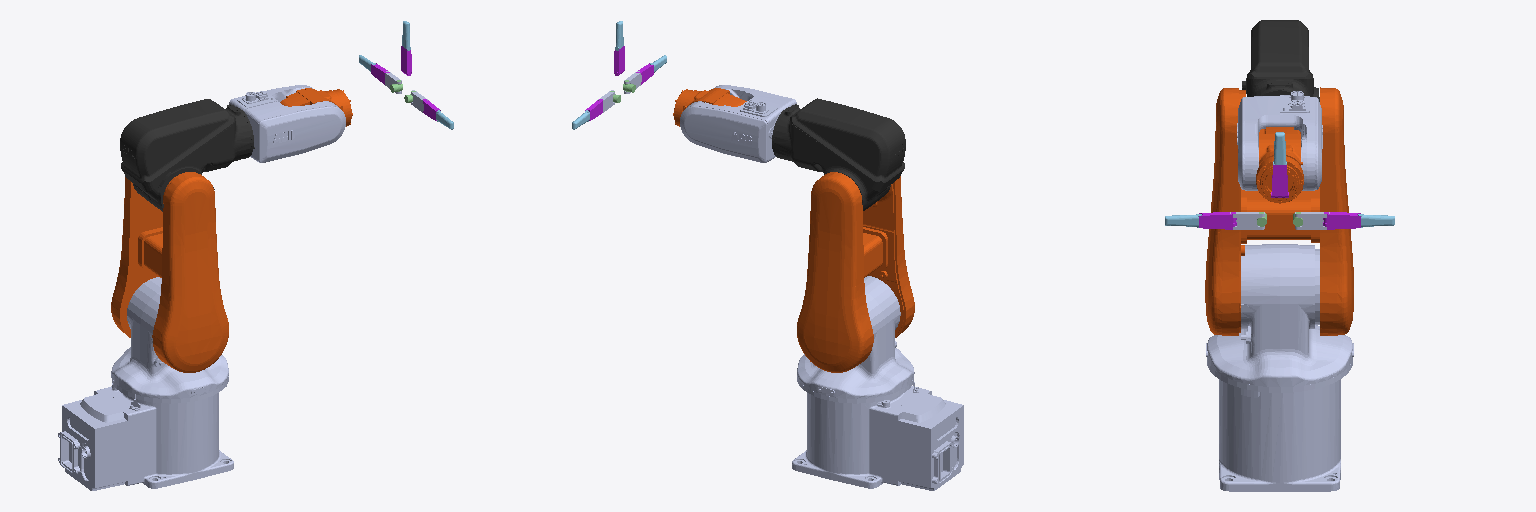
--- Facts derived from the render (not from the file) ---
Views: 3 orthographic renders of the robot side by side, from view 1: azimuth 30°, elevation 25°; view 2: azimuth 150°, elevation 25°; view 3: azimuth 270°, elevation 25°.
Model totalassembly with 17 links and 16 joints (14 revolute, 2 fixed), rooted at base_link, posed every joint at zero.
Visible links, largest first — view 1: arm3, base_link, arm4, arm2, arm5, arm6; view 2: arm3, base_link, arm4, arm2, arm5, arm6; view 3: arm3, arm2, base_link, arm5, arm4, arm6, lfingmid, rfingmid.
Link boxes in pixels (x1=…): arm3: x1=111, y1=172, x2=228, y2=372; base_link: x1=58, y1=383, x2=233, y2=490; arm4: x1=120, y1=99, x2=254, y2=211; arm2: x1=111, y1=277, x2=228, y2=403; arm5: x1=229, y1=85, x2=345, y2=162; arm6: x1=280, y1=88, x2=352, y2=126; arm3: x1=797, y1=172, x2=914, y2=372; base_link: x1=792, y1=382, x2=963, y2=490; arm4: x1=772, y1=98, x2=905, y2=210; arm2: x1=797, y1=276, x2=914, y2=403; arm5: x1=680, y1=85, x2=796, y2=162; arm6: x1=673, y1=88, x2=746, y2=126; arm3: x1=1205, y1=87, x2=1353, y2=335; arm2: x1=1206, y1=244, x2=1353, y2=397; base_link: x1=1219, y1=379, x2=1340, y2=491; arm5: x1=1237, y1=91, x2=1322, y2=190; arm4: x1=1242, y1=20, x2=1319, y2=101; arm6: x1=1256, y1=127, x2=1303, y2=203; lfingmid: x1=1199, y1=212, x2=1236, y2=229; rfingmid: x1=1323, y1=212, x2=1360, y2=229.
Bounding box of the posed robot: 0.7076 × 0.3389 × 0.7728 m (x, y, z).
Meshes: 17 distinct files referenced, 16 mesh visuals loaded (16 binary STL); not drawn: 1 (reference not matched to a file when rendering).

URDF robot description (totalassembly):
<?xml version="1.0" encoding="utf-8" ?>
<!-- This URDF was automatically created by SolidWorks to URDF Exporter! Originally created by Stephen Brawner ([email redacted]) 
     Commit Version: 1.5.1-0-g916b5db  Build Version: 1.5.7152.31018
     For more information, please see http://wiki.ros.org/sw_urdf_exporter -->
<robot name="totalassembly">
    <link name="base_link">
        
	<inertial>
            <mass value="6.215" />
            <inertia ixx="0.024621" ixy="2.5781E-05" ixz="-0.00023172" iyy="0.027034" iyz="5.6467E-06" izz="0.025199" />
        </inertial>

        <visual>
            <origin xyz="0 0 0" rpy="0 0 0" />
            <geometry>
                <mesh filename="package://totalassembly/meshes/base_link.STL" />
            </geometry>
            <material name="">
                <color rgba="0.79216 0.81961 0.93333 1" />
            </material>
        </visual>
        <collision>
            <origin xyz="0 0 0" rpy="0 0 0" />
            <geometry>
                <mesh filename="package://totalassembly/meshes/base_link.STL" />
            </geometry>
        </collision>
    </link>
    <link name="arm2">
        
	<inertial>
            <mass value="0.1" />
            <inertia ixx="0.03" iyy="0.03" izz="0.03" ixy="0.0" ixz="0.0" iyz="0.0" />
        </inertial>

        <visual>
            <origin xyz="0 0 0" rpy="0 0 0" />
            <geometry>
                <mesh filename="package://totalassembly/meshes/arm2.STL" />
            </geometry>
            <material name="">
                <color rgba="0.79216 0.81961 0.93333 1" />
            </material>
        </visual>
        <collision>
            <origin xyz="0 0 0" rpy="0 0 0" />
            <geometry>
                <mesh filename="package://totalassembly/meshes/arm2.STL" />
            </geometry>
        </collision>
    </link>
    <joint name="axis1" type="revolute">
        <origin xyz="0 0 0.179" rpy="0 0 0" />
        <parent link="base_link" />
        <child link="arm2" />
        <axis xyz="0 0 -1" />
        <limit lower="-2.88" upper="2.88" effort="100" velocity="1" />
    </joint>
    <link name="arm3">
        
	<inertial>
            <mass value="0.1" />
            <inertia ixx="0.03" iyy="0.03" izz="0.03" ixy="0.0" ixz="0.0" iyz="0.0" />
        </inertial>

        <visual>
            <origin xyz="0 0 0" rpy="0 0 0" />
            <geometry>
                <mesh filename="package://totalassembly/meshes/arm3.STL" />
            </geometry>
            <material name="">
                <color rgba="0.8902 0.41176 0.13333 1" />
            </material>
        </visual>
        <collision>
            <origin xyz="0 0 0" rpy="0 0 0" />
            <geometry>
                <mesh filename="package://totalassembly/meshes/arm3.STL" />
            </geometry>
        </collision>
    </link>
    <joint name="axis2" type="revolute">
        <origin xyz="0 0.0735 0.111" rpy="0 0 0" />
        <parent link="arm2" />
        <child link="arm3" />
        <axis xyz="0 -1 0" />
        <limit lower="-1.92" upper="1.92" effort="100" velocity="1" />
    </joint>
    <link name="arm4">
        
	<inertial>
            <mass value="0.1" />
            <inertia ixx="0.03" iyy="0.03" izz="0.03" ixy="0.0" ixz="0.0" iyz="0.0" />
        </inertial>

        <visual>
            <origin xyz="0 0 0" rpy="0 0 0" />
            <geometry>
                <mesh filename="package://totalassembly/meshes/arm4.STL" />
            </geometry>
            <material name="">
                <color rgba="0.250980392156863 0.250980392156863 0.250980392156863 1" />
            </material>
        </visual>
        <collision>
            <origin xyz="0 0 0" rpy="0 0 0" />
            <geometry>
                <mesh filename="package://totalassembly/meshes/arm4.STL" />
            </geometry>
        </collision>
    </link>
    <joint name="axis3" type="revolute">
        <origin xyz="0 -0.073500000000008 0.27" rpy="0 0 0" />
        <parent link="arm3" />
        <child link="arm4" />
        <axis xyz="0 -1 0" />
        <limit lower="-1.92" upper="1.22" effort="100" velocity="1" />
    </joint>
    <link name="arm5">
        
        <inertial>
            <mass value="0.1" />
            <inertia ixx="0.03" iyy="0.03" izz="0.03" ixy="0.0" ixz="0.0" iyz="0.0" />
        </inertial>

        <visual>
            <origin xyz="0 0 0" rpy="0 0 0" />
            <geometry>
                <mesh filename="package://totalassembly/meshes/arm5.STL" />
            </geometry>
            <material name="">
                <color rgba="0.792156862745098 0.819607843137255 0.933333333333333 1" />
            </material>
        </visual>
        <collision>
            <origin xyz="0 0 0" rpy="0 0 0" />
            <geometry>
                <mesh filename="package://totalassembly/meshes/arm5.STL" />
            </geometry>
        </collision>
    </link>
    <joint name="axis4" type="revolute">
        <origin xyz="0.302000000000004 0 0.0699999999999995" rpy="0 0 0" />
        <parent link="arm4" />
        <child link="arm5" />
        <axis xyz="-1 0 0" />
        <limit lower="-2.79" upper="2.79" effort="100" velocity="1" />
    </joint>
    <link name="arm6">
        
         <inertial>
            <mass value="0.1" />
            <inertia ixx="0.03" iyy="0.03" izz="0.03" ixy="0.0" ixz="0.0" iyz="0.0" />
        </inertial>

        <visual>
            <origin xyz="0 0 0" rpy="0 0 0" />
            <geometry>
                <mesh filename="package://totalassembly/meshes/arm6.STL" />
            </geometry>
            <material name="">
                <color rgba="0.8902 0.41176 0.13333 1" />
            </material>
        </visual>
        <collision>
            <origin xyz="0 0 0" rpy="0 0 0" />
            <geometry>
                <mesh filename="package://totalassembly/meshes/arm6.STL" />
            </geometry>
        </collision>
    </link>
    <joint name="axis5" type="revolute">
        <origin xyz="0 0 0" rpy="0 0 0" />
        <parent link="arm5" />
        <child link="arm6" />
        <axis xyz="0 1 0" />
        <limit lower="-2.09" upper="2.09" effort="100" velocity="1" />
    </joint>
    <link name="gripperbase">
        
<inertial>
            <mass value="0.1" />
            <inertia ixx="0.03" iyy="0.03" izz="0.03" ixy="0.0" ixz="0.0" iyz="0.0" />
        </inertial>

        <visual>
            <origin xyz="0 0 0" rpy="0 0 0" />
            <geometry>
                <mesh filename="package://totalassembly/meshes/gripperbase.STL" />
            </geometry>
            <material name="">
                <color rgba="0.78039 0.5 0.74118 1" />
            </material>
        </visual>
        <collision>
            <origin xyz="0 0 0" rpy="0 0 0" />
            <geometry>
                <mesh filename="package://totalassembly/meshes/gripperbase.STL" />
            </geometry>
        </collision>
    </link>
    <joint name="wrist" type="revolute">
        <origin xyz="0.071999999999996 0 0" rpy="0 0 0" />
        <parent link="arm6" />
        <child link="gripperbase" />
        <axis xyz="-1 0 0" />
        <limit lower="-6.98" upper="6.98" effort="100" velocity="1" />
    </joint>
    <link name="mfingmid">
        
<inertial>
            <mass value="0.1" />
            <inertia ixx="0.03" iyy="0.03" izz="0.03" ixy="0.0" ixz="0.0" iyz="0.0" />
        </inertial>

        <visual>
            <origin xyz="0 0 0" rpy="0 0 0" />
            <geometry>
                <mesh filename="package://totalassembly/meshes/mfingmid.STL" />
            </geometry>
            <material name="">
                <color rgba="0.79216 0.2 0.93333 1" />
            </material>
        </visual>
        <collision>
            <origin xyz="0 0 0" rpy="0 0 0" />
            <geometry>
                <mesh filename="package://totalassembly/meshes/mfingmid.STL" />
            </geometry>
        </collision>
    </link>
    <joint name="mfingjoint2" type="revolute">
        <origin xyz="0.125 0 0.0419999999999996" rpy="0 -0.00154592168307366 0" />
        <parent link="gripperbase" />
        <child link="mfingmid" />
        <axis xyz="0 -1 0" />
        <limit lower="-2.4" upper="0" effort="100" velocity="1" />
    </joint>
    <link name="mfingtop">
        
        <inertial>
            <mass value="0.1" />
            <inertia ixx="0.03" iyy="0.03" izz="0.03" ixy="0.0" ixz="0.0" iyz="0.0" />
        </inertial>

        <visual>
            <origin xyz="0 0 0" rpy="0 0 0" />
            <geometry>
                <mesh filename="package://totalassembly/meshes/mfingtop.STL" />
            </geometry>
            <material name="">
                <color rgba="0.6 0.81961 0.93333 1" />
            </material>
        </visual>
        <collision>
            <origin xyz="0 0 0" rpy="0 0 0" />
            <geometry>
                <mesh filename="package://totalassembly/meshes/mfingtop.STL" />
            </geometry>
        </collision>
    </link>
    <joint name="mfingjoint3" type="revolute">
        <origin xyz="0 -0.000249999999999256 0.0500000000000007" rpy="0 0.00154592168307366 0" />
        <parent link="mfingmid" />
        <child link="mfingtop" />
        <axis xyz="0 -1 0" />
        <limit lower="-0.87" upper="0" effort="100" velocity="1" />
    </joint>
    <link name="leftmot">
        
        <inertial>
            <mass value="0.1" />
            <inertia ixx="0.03" iyy="0.03" izz="0.03" ixy="0.0" ixz="0.0" iyz="0.0" />
        </inertial>

        <visual>
            <origin xyz="0 0 0" rpy="0 0 0" />
            <geometry>
                <mesh filename="package://totalassembly/meshes/leftmot.STL" />
            </geometry>
            <material name="">
                <color rgba="0.6 0.81961 0.6 1" />
            </material>
        </visual>
        <collision>
            <origin xyz="0 0 0" rpy="0 0 0" />
            <geometry>
                <mesh filename="package://totalassembly/meshes/leftmot.STL" />
            </geometry>
        </collision>
    </link>
    <joint name="leftmotjoint" type="revolute">
        <origin xyz="0.12 -0.026667 0" rpy="0 0 0" />
        <parent link="gripperbase" />
        <child link="leftmot" />
        <axis xyz="-1 0 0" />
        <limit lower="-1.57" upper="0" effort="100" velocity="1" />
    </joint>
    <link name="lfingbottom">
        
        <inertial>
            <mass value="0.1" />
            <inertia ixx="0.03" iyy="0.03" izz="0.03" ixy="0.0" ixz="0.0" iyz="0.0" />
        </inertial>

        <visual>
            <origin xyz="0 0 0" rpy="0 0 0" />
            <geometry>
                <mesh filename="package://totalassembly/meshes/lfingbottom.STL" />
            </geometry>
            <material name="">
                <color rgba="0.79216 0.81961 0.93333 1" />
            </material>
        </visual>
        <collision>
            <origin xyz="0 0 0" rpy="0 0 0" />
            <geometry>
                <mesh filename="package://totalassembly/meshes/lfingbottom.STL" />
            </geometry>
        </collision>
    </link>
    <joint name="ljoint1" type="fixed">
        <origin xyz="0.005 0 -0.0125" rpy="0 0 0" />
        <parent link="leftmot" />
        <child link="lfingbottom" />
        <axis xyz="0 0 0" />
        <limit lower="0" upper="0" effort="0" velocity="0" />
    </joint>
    <link name="lfingmid">
        
	<inertial>
            <mass value="0.1" />
            <inertia ixx="0.03" iyy="0.03" izz="0.03" ixy="0.0" ixz="0.0" iyz="0.0" />
        </inertial>

        <visual>
            <origin xyz="0 0 0" rpy="0 0 0" />
            <geometry>
                <mesh filename="package://totalassembly/meshes/lfingmid.STL" />
            </geometry>
            <material name="">
                <color rgba="0.79216 0.2 0.93333 1" />
            </material>
        </visual>
        <collision>
            <origin xyz="0 0 0" rpy="0 0 0" />
            <geometry>
                <mesh filename="package://totalassembly/meshes/lfingmid.STL" />
            </geometry>
        </collision>
    </link>
    <joint name="ljoint2" type="revolute">
        <origin xyz="0 -0.042 0.0125" rpy="0 0 0" />
        <parent link="lfingbottom" />
        <child link="lfingmid" />
        <axis xyz="0 0 -1" />
        <limit lower="-2.4" upper="0" effort="100" velocity="1" />
    </joint>
    <link name="lfingtop">
        
        <inertial>
            <mass value="0.1" />
            <inertia ixx="0.03" iyy="0.03" izz="0.03" ixy="0.0" ixz="0.0" iyz="0.0" />
        </inertial>

        <visual>
            <origin xyz="0 0 0" rpy="0 0 0" />
            <geometry>
                <mesh filename="package://totalassembly/meshes/lfingtop.STL" />
            </geometry>
            <material name="">
                <color rgba="0.6 0.81961 0.93333 1" />
            </material>
        </visual>
        <collision>
            <origin xyz="0 0 0" rpy="0 0 0" />
            <geometry>
                <mesh filename="package://totalassembly/meshes/lfingtop.STL" />
            </geometry>
        </collision>
    </link>
    <joint name="ljoint3" type="revolute">
        <origin xyz="0 -0.05 -0.00025" rpy="0 0 0" />
        <parent link="lfingmid" />
        <child link="lfingtop" />
        <axis xyz="0 0 -1" />
        <limit lower="-0.87" upper="0" effort="100" velocity="1" />
    </joint>
    <link name="rightmot">
        
        <inertial>
            <mass value="0.1" />
            <inertia ixx="0.03" iyy="0.03" izz="0.03" ixy="0.0" ixz="0.0" iyz="0.0" />
        </inertial>

        <visual>
            <origin xyz="0 0 0" rpy="0 0 0" />
            <geometry>
                <mesh filename="package://totalassembly/meshes/rightmot.STL" />
            </geometry>
            <material name="">
                <color rgba="0.6 0.81961 0.6 1" />
            </material>
        </visual>
        <collision>
            <origin xyz="0 0 0" rpy="0 0 0" />
            <geometry>
                <mesh filename="package://totalassembly/meshes/rightmot.STL" />
            </geometry>
        </collision>
    </link>
    <joint name="rightmotjoint" type="revolute">
        <origin xyz="0.12 0.026667 0" rpy="0 0 0" />
        <parent link="gripperbase" />
        <child link="rightmot" />
        <axis xyz="1 0 0" />
        <limit lower="0" upper="0" effort="100" velocity="1" />
        <mimic joint="leftmotjoint" multiplier="1" offset="0" />
    </joint>
    <link name="rfingbottom">
        
        <inertial>
            <mass value="0.1" />
            <inertia ixx="0.03" iyy="0.03" izz="0.03" ixy="0.0" ixz="0.0" iyz="0.0" />
        </inertial>

        <visual>
            <origin xyz="0 0 0" rpy="0 0 0" />
            <geometry>
                <mesh filename="package://totalassembly/meshes/rfingbottom.STL" />
            </geometry>
            <material name="">
                <color rgba="0.79216 0.81961 0.93333 1" />
            </material>
        </visual>
        <collision>
            <origin xyz="0 0 0" rpy="0 0 0" />
            <geometry>
                <mesh filename="package://totalassembly/meshes/rfingbottom.STL" />
            </geometry>
        </collision>
    </link>
    <joint name="rjoint1" type="fixed">
        <origin xyz="0.005 0 0.0125" rpy="0 0 0" />
        <parent link="rightmot" />
        <child link="rfingbottom" />
        <axis xyz="0 0 0" />
        <limit lower="0" upper="0" effort="0" velocity="0" />
    </joint>
    <link name="rfingmid">
        
       <inertial>
            <mass value="0.1" />
            <inertia ixx="0.03" iyy="0.03" izz="0.03" ixy="0.0" ixz="0.0" iyz="0.0" />
        </inertial>

        <visual>
            <origin xyz="0 0 0" rpy="0 0 0" />
            <geometry>
                <mesh filename="package://totalassembly/meshes/rfingmid.STL" />
            </geometry>
            <material name="">
                <color rgba="0.79216 0.2 0.93333 1" />
            </material>
        </visual>
        <collision>
            <origin xyz="0 0 0" rpy="0 0 0" />
            <geometry>
                <mesh filename="package://totalassembly/meshes/rfingmid.STL" />
            </geometry>
        </collision>
    </link>
    <joint name="rjoint2" type="revolute">
        <origin xyz="0 0.0419999999999997 -0.0125000000000008" rpy="0 0 0" />
        <parent link="rfingbottom" />
        <child link="rfingmid" />
        <axis xyz="0 0 -1" />
        <limit lower="0" upper="2.4" effort="100" velocity="1" />
    </joint>
    <link name="rfingtop">
        
        <inertial>
            <mass value="0.1" />
            <inertia ixx="0.03" iyy="0.03" izz="0.03" ixy="0.0" ixz="0.0" iyz="0.0" />
        </inertial>

        <visual>
            <origin xyz="0 0 0" rpy="0 0 0" />
            <geometry>
                <mesh filename="package://totalassembly/meshes/rfingtop.STL" />
            </geometry>
            <material name="">
                <color rgba="0.6 0.81961 0.93333 1" />
            </material>
        </visual>
        <collision>
            <origin xyz="0 0 0" rpy="0 0 0" />
            <geometry>
                <mesh filename="package://totalassembly/meshes/rfingtop.STL" />
            </geometry>
        </collision>
    </link>
    <joint name="rjoint3" type="revolute">
        <origin xyz="-7.7296E-05 0.05 -0.00025" rpy="0 0 0" />
        <parent link="rfingmid" />
        <child link="rfingtop" />
        <axis xyz="0 0 -1" />
        <limit lower="0" upper="0.87" effort="100" velocity="1" />
    </joint>
    
    <transmission name="trans_axis1">
        <type>transmission_interface/SimpleTransmission</type>
        <joint name="axis1">
            <hardwareInterface>hardware_interface/PositionJointInterface</hardwareInterface>
        </joint>
        <actuator name="axis1_motor">
            <hardwareInterface>hardware_interface/PositionJointInterface</hardwareInterface>
            <mechanicalReduction>1</mechanicalReduction>
        </actuator>
    </transmission>
    <transmission name="trans_axis2">
        <type>transmission_interface/SimpleTransmission</type>
        <joint name="axis2">
            <hardwareInterface>hardware_interface/PositionJointInterface</hardwareInterface>
        </joint>
        <actuator name="axis2_motor">
            <hardwareInterface>hardware_interface/PositionJointInterface</hardwareInterface>
            <mechanicalReduction>1</mechanicalReduction>
        </actuator>
    </transmission>
    <transmission name="trans_axis3">
        <type>transmission_interface/SimpleTransmission</type>
        <joint name="axis3">
            <hardwareInterface>hardware_interface/PositionJointInterface</hardwareInterface>
        </joint>
        <actuator name="axis3_motor">
            <hardwareInterface>hardware_interface/PositionJointInterface</hardwareInterface>
            <mechanicalReduction>1</mechanicalReduction>
        </actuator>
    </transmission>
    <transmission name="trans_axis4">
        <type>transmission_interface/SimpleTransmission</type>
        <joint name="axis4">
            <hardwareInterface>hardware_interface/PositionJointInterface</hardwareInterface>
        </joint>
        <actuator name="axis4_motor">
            <hardwareInterface>hardware_interface/PositionJointInterface</hardwareInterface>
            <mechanicalReduction>1</mechanicalReduction>
        </actuator>
    </transmission>
    <transmission name="trans_axis5">
        <type>transmission_interface/SimpleTransmission</type>
        <joint name="axis5">
            <hardwareInterface>hardware_interface/PositionJointInterface</hardwareInterface>
        </joint>
        <actuator name="axis5_motor">
            <hardwareInterface>hardware_interface/PositionJointInterface</hardwareInterface>
            <mechanicalReduction>1</mechanicalReduction>
        </actuator>
    </transmission>
    <transmission name="trans_wrist">
        <type>transmission_interface/SimpleTransmission</type>
        <joint name="wrist">
            <hardwareInterface>hardware_interface/EffortJointInterface</hardwareInterface>
        </joint>
        <actuator name="wrist_motor">
            <hardwareInterface>hardware_interface/EffortJointInterface</hardwareInterface>
            <mechanicalReduction>1</mechanicalReduction>
        </actuator>
    </transmission>
    <transmission name="trans_mfingjoint2">
        <type>transmission_interface/SimpleTransmission</type>
        <joint name="mfingjoint2">
            <hardwareInterface>hardware_interface/EffortJointInterface</hardwareInterface>
        </joint>
        <actuator name="mfingjoint2_motor">
            <hardwareInterface>hardware_interface/EffortJointInterface</hardwareInterface>
            <mechanicalReduction>1</mechanicalReduction>
        </actuator>
    </transmission>
    <transmission name="trans_mfingjoint3">
        <type>transmission_interface/SimpleTransmission</type>
        <joint name="mfingjoint3">
            <hardwareInterface>hardware_interface/EffortJointInterface</hardwareInterface>
        </joint>
        <actuator name="mfingjoint3_motor">
            <hardwareInterface>hardware_interface/EffortJointInterface</hardwareInterface>
            <mechanicalReduction>1</mechanicalReduction>
        </actuator>
    </transmission>
    <transmission name="trans_leftmotjoint">
        <type>transmission_interface/SimpleTransmission</type>
        <joint name="leftmotjoint">
            <hardwareInterface>hardware_interface/EffortJointInterface</hardwareInterface>
        </joint>
        <actuator name="leftmotjoint_motor">
            <hardwareInterface>hardware_interface/EffortJointInterface</hardwareInterface>
            <mechanicalReduction>1</mechanicalReduction>
        </actuator>
    </transmission>
    <transmission name="trans_ljoint2">
        <type>transmission_interface/SimpleTransmission</type>
        <joint name="ljoint2">
            <hardwareInterface>hardware_interface/EffortJointInterface</hardwareInterface>
        </joint>
        <actuator name="ljoint2_motor">
            <hardwareInterface>hardware_interface/EffortJointInterface</hardwareInterface>
            <mechanicalReduction>1</mechanicalReduction>
        </actuator>
    </transmission>
    <transmission name="trans_ljoint3">
        <type>transmission_interface/SimpleTransmission</type>
        <joint name="ljoint3">
            <hardwareInterface>hardware_interface/EffortJointInterface</hardwareInterface>
        </joint>
        <actuator name="ljoint3_motor">
            <hardwareInterface>hardware_interface/EffortJointInterface</hardwareInterface>
            <mechanicalReduction>1</mechanicalReduction>
        </actuator>
    </transmission>
    <transmission name="trans_rightmotjoint">
        <type>transmission_interface/SimpleTransmission</type>
        <joint name="rightmotjoint">
            <hardwareInterface>hardware_interface/EffortJointInterface</hardwareInterface>
        </joint>
        <actuator name="rightmotjoint_motor">
            <hardwareInterface>hardware_interface/EffortJointInterface</hardwareInterface>
            <mechanicalReduction>1</mechanicalReduction>
        </actuator>
    </transmission>
    <transmission name="trans_rjoint2">
        <type>transmission_interface/SimpleTransmission</type>
        <joint name="rjoint2">
            <hardwareInterface>hardware_interface/EffortJointInterface</hardwareInterface>
        </joint>
        <actuator name="rjoint2_motor">
            <hardwareInterface>hardware_interface/EffortJointInterface</hardwareInterface>
            <mechanicalReduction>1</mechanicalReduction>
        </actuator>
    </transmission>
    <transmission name="trans_rjoint3">
        <type>transmission_interface/SimpleTransmission</type>
        <joint name="rjoint3">
            <hardwareInterface>hardware_interface/EffortJointInterface</hardwareInterface>
        </joint>
        <actuator name="rjoint3_motor">
            <hardwareInterface>hardware_interface/EffortJointInterface</hardwareInterface>
            <mechanicalReduction>1</mechanicalReduction>
        </actuator>
    </transmission>
    <gazebo>
        <plugin name="gazebo_ros_control" filename="libgazebo_ros_control.so">
            <robotNamespace>/</robotNamespace>
        </plugin>
    </gazebo>
    
</robot>
